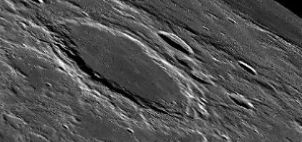crater: (151, 5, 225, 57), (232, 46, 276, 83)
